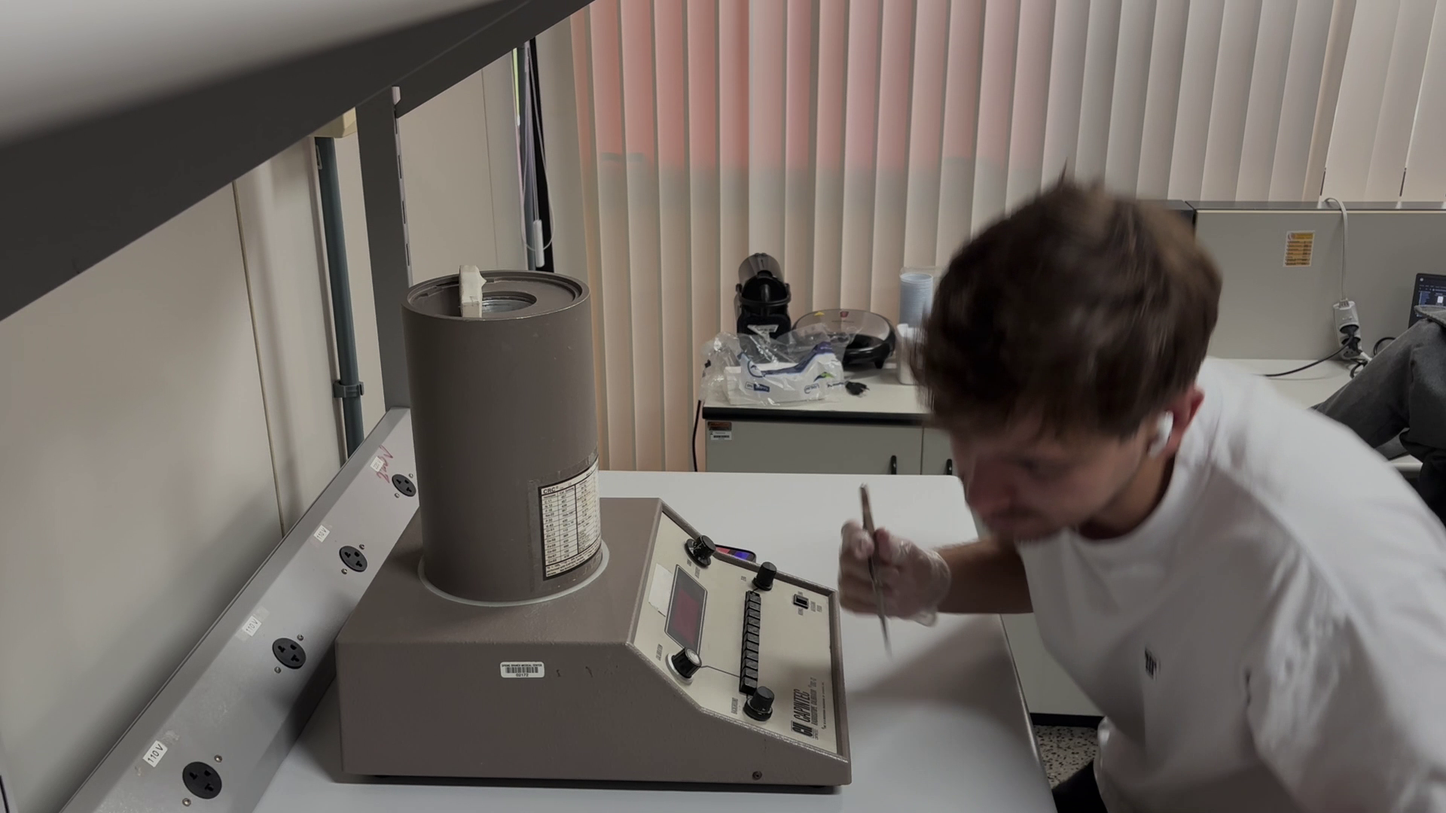Ativimetro: (398, 267, 609, 606)
Com_Luva: (834, 515, 952, 630)
